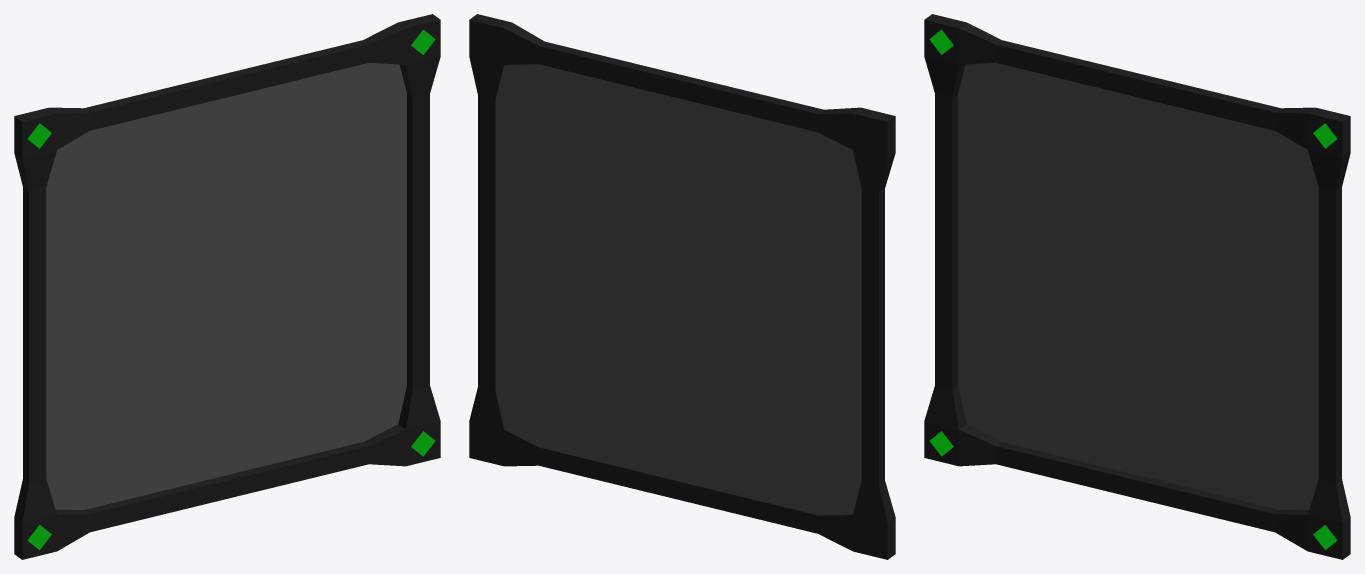
File: display-frame-square.glb
3 renders of one model, left to right at view 1: azimuth 30°, elevation 25°; view 2: azimuth 150°, elevation 25°; view 3: azimuth 330°, elevation 25°, orthographic.
Parts seen in each view (by area): view 1: Cube.001; view 2: Cube.001; view 3: Cube.001.
Part boxes in pixels (x1,y1,x2,y2): Cube.001: (14, 14, 440, 559); Cube.001: (469, 14, 895, 559); Cube.001: (924, 14, 1350, 559).
Size of the model in its own units: 1.2 by 1.2 by 0.04.
Materials: 1 (1 with a texture image).
